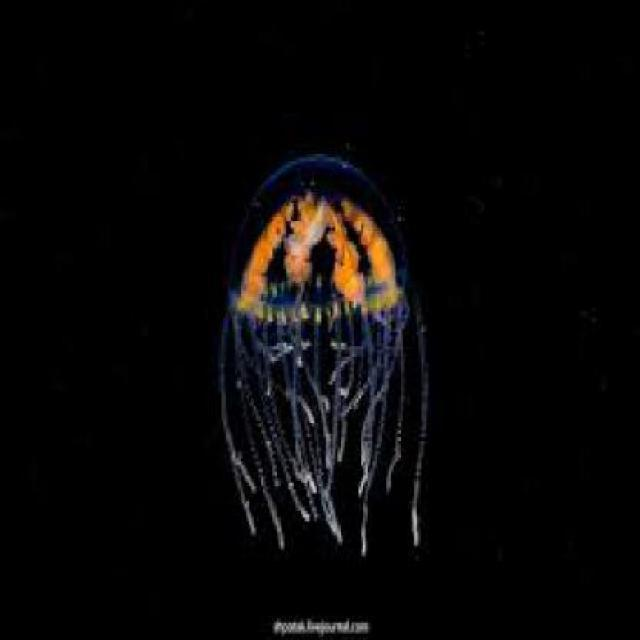Jellyfish: (214, 144, 426, 556)
